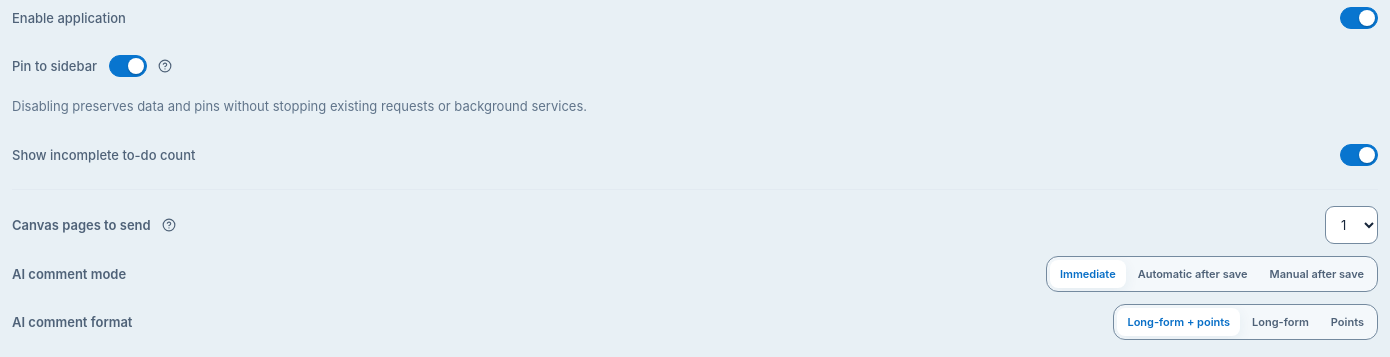
Application Center › keeps disable consequences visible and pin help separate in en-US
Expected: the text "Pinning only controls the sidebar shortcut." is not shown
Expected: the text "without stopping existing requests or background services" is shown, [12,98,587,114]
Click the button named "Pin to sidebar". click: (165, 66)
box: [151,52,179,80]
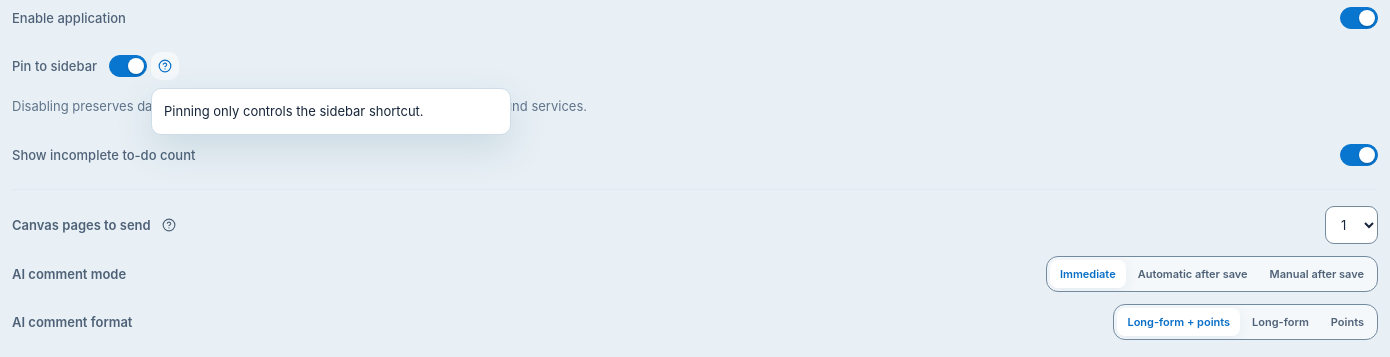
Expected: the switch labelled "Pin to sidebar" is checked, [109,55,147,77]
Result: the tooltip reads "Pinning only controls the sidebar shortcut." at [164,103,424,119]
